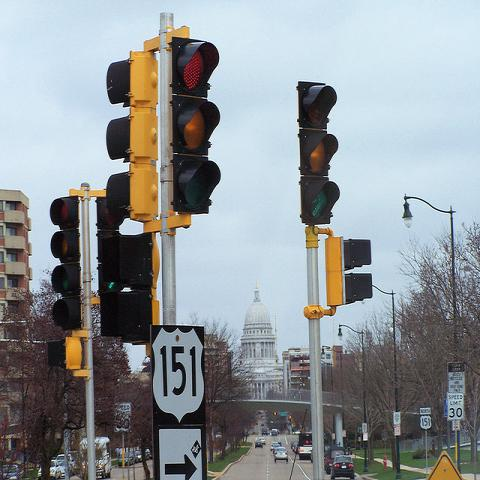bus: (298, 432, 313, 459)
car: (330, 454, 355, 480), (324, 446, 346, 474), (54, 454, 76, 478), (274, 447, 288, 463), (50, 460, 61, 480), (270, 441, 281, 451), (254, 440, 263, 448), (271, 428, 278, 436), (260, 437, 266, 445)
truck: (78, 436, 112, 480)
